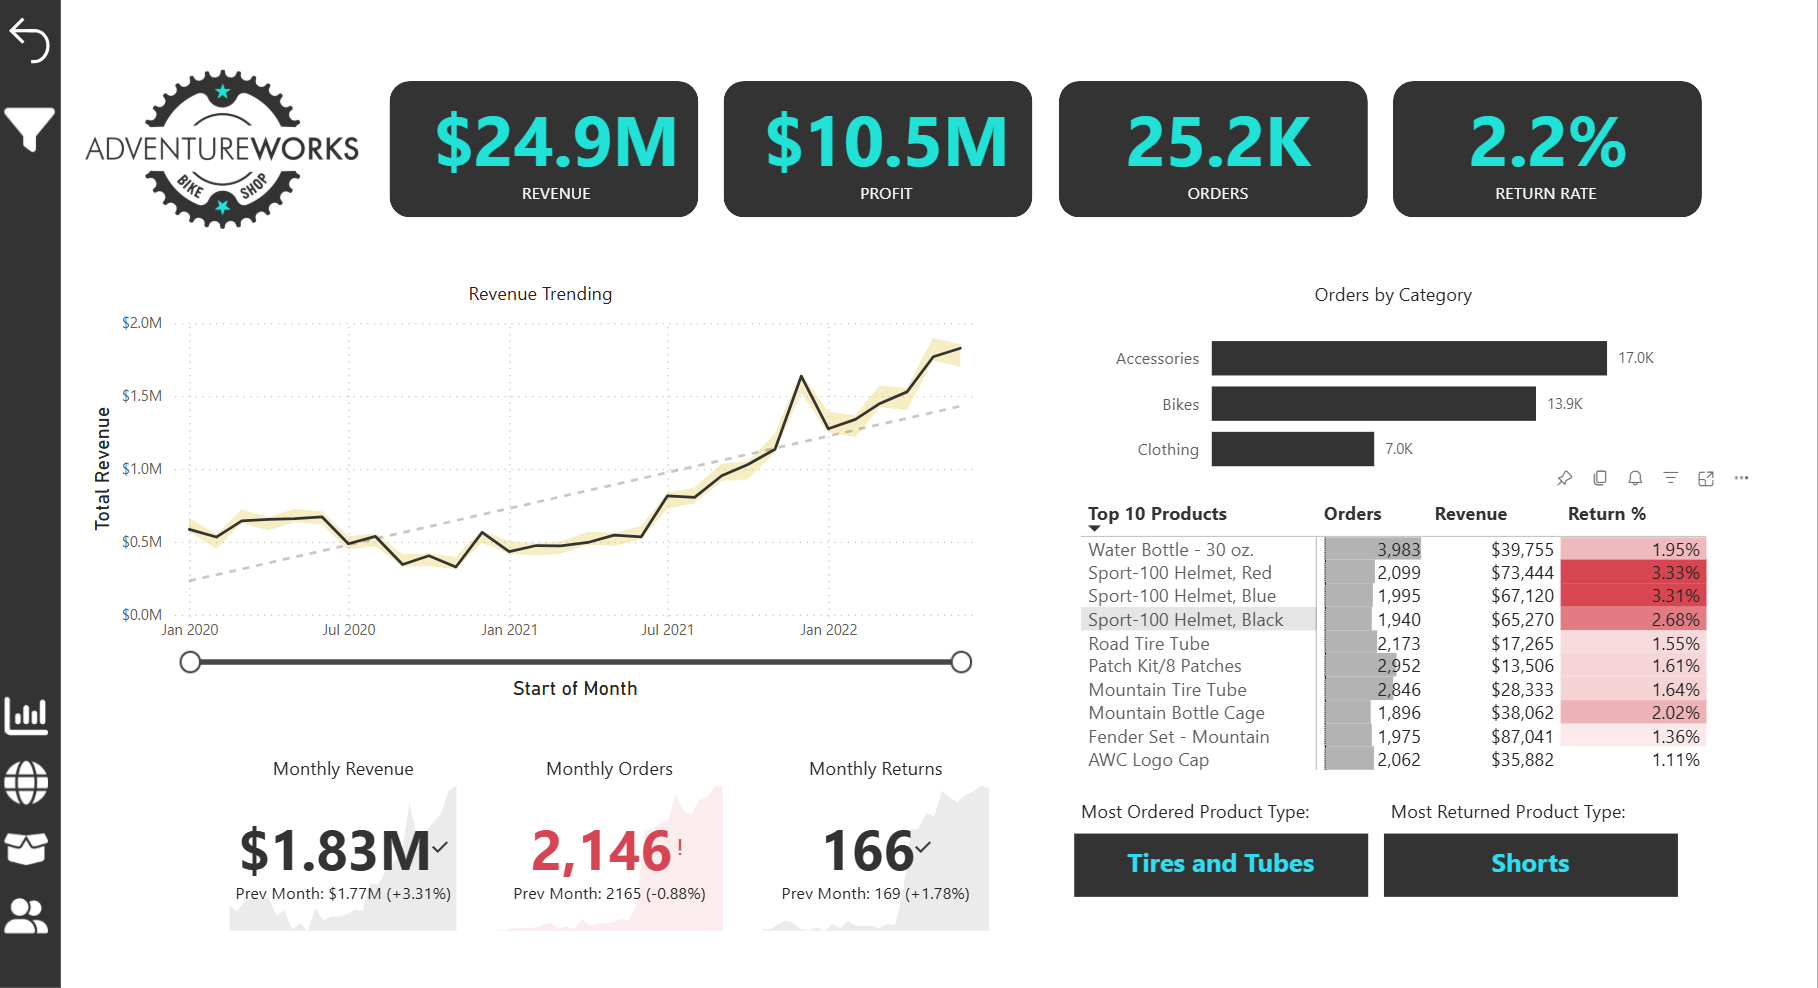

This screenshot's page, from the dashboard's own definition file:
{"tool":"powerbi","page":{"name":"Exec Dashboard","canvas":[1280,720],"ordinal":0},"visuals":[{"type":"card","fields":{"Values":["Measure Table.Return Rate"]},"box":[1007,33.6,243.7,150.4],"z":0,"group":"g2"},{"type":"image","title":"AW Logo","box":[41,43.5,243.7,131.8],"z":0},{"type":"group","id":"g1","title":"KPI Backgrounds","box":[285,59.6,955.7,99.6],"z":0,"group":"g3"},{"type":"shape","box":[285,59.6,225,99.5],"z":0,"group":"g1"},{"type":"actionButton","box":[0,502.2,62.2,39.8],"z":0,"group":"g4"},{"type":"shape","title":"Left Nav Background","box":[0,0,45,720],"z":1000},{"type":"group","id":"g2","title":"KPI Values","box":[284.7,33.6,966,150.4],"z":1000,"group":"g3"},{"type":"card","fields":{"Values":["Measure Table.Total Revenue"]},"box":[284.7,33.6,243.7,150.4],"z":1000,"group":"g2"},{"type":"shape","box":[528.5,59.8,225,99.5],"z":1000,"group":"g1"},{"type":"actionButton","box":[0,599.2,62.2,39.8],"z":1000,"group":"g4"},{"type":"group","id":"g3","title":"KPIs","box":[284.7,33.6,966,150.4],"z":2000},{"type":"card","fields":{"Values":["Measure Table.Total Orders"]},"box":[766.2,33.6,243.7,150.4],"z":2000,"group":"g2"},{"type":"shape","box":[772.1,59.8,225,99.5],"z":2000,"group":"g1"},{"type":"actionButton","box":[0,647.7,62.2,39.8],"z":2000,"group":"g4"},{"type":"card","fields":{"Values":["Measure Table.Total Profit"]},"box":[525.5,33.6,243.7,150.4],"z":3000,"group":"g2"},{"type":"shape","box":[1015.6,59.8,225,99.5],"z":3000,"group":"g1"},{"type":"lineChart","title":"Revenue Trending","fields":{"Category":["Calendar Lookup.Date Hierarchy.Start of Month"],"Y":["Measure Table.Total Revenue"]},"box":[62.2,205.1,663.9,309.6],"z":3000},{"type":"actionButton","box":[0,550.7,62.2,39.8],"z":3000,"group":"g4"},{"type":"kpi","title":"Monthly Revenue","fields":{"Goal":["Measure Table.Previous Month Revenue"],"Indicator":["Measure Table.Total Revenue"],"TrendLine":["Calendar Lookup.Start of Month"]},"box":[162.9,550.7,175.3,133],"z":4000},{"type":"kpi","title":"Monthly Orders","fields":{"Goal":["Measure Table.Previous Month Orders"],"Indicator":["Measure Table.Total Orders"],"TrendLine":["Calendar Lookup.Start of Month"]},"box":[357.1,550.5,175.3,133],"z":5000},{"type":"kpi","title":"Monthly Returns","fields":{"Goal":["Measure Table.Previous Month Returns"],"Indicator":["Measure Table.Total Returns"],"TrendLine":["Calendar Lookup.Start of Month"]},"box":[551.3,550.5,175.3,133],"z":6000},{"type":"clusteredBarChart","title":"Orders by Category ","fields":{"Category":["Product Categories Lookup.CategoryName"],"Y":["Measure Table.Total Orders"]},"box":[803.1,206.4,423.9,154.2],"z":7000},{"type":"pivotTable","fields":{"Rows":["Product Lookup.ProductName"],"Values":["Measure Table.Total Orders","Measure Table.Total Revenue","Measure Table.Return Rate"]},"box":[783.2,360.5,497.3,217.6],"z":8000},{"type":"card","fields":{"Values":["Min(Product Subcategories Lookup.SubcategoryName)"]},"box":[783.2,607.9,213.8,46],"z":9000},{"type":"textbox","box":[783.2,578.1,181.5,38.5],"z":10000},{"type":"card","fields":{"Values":["Min(Product Subcategories Lookup.SubcategoryName)"]},"box":[1008.8,607.2,213.8,46],"z":11000},{"type":"textbox","box":[1008.8,577.4,181.5,38.5],"z":12000},{"type":"actionButton","box":[0,0,44.8,59.7],"z":13000},{"type":"group","id":"g4","title":"Navigation Buttons","box":[0,502.2,62.2,185.2],"z":14000},{"type":"actionButton","box":[0,69.6,44.8,51],"z":15000}]}

Visuals, with their boxes on the page's 1280x720 design canvas (x1, y1, x2, y2). These are canvas units, not pixel positions in the 1818x988 screenshot, which may show the page scaled, cropped or inside an application window:
card - Measure Table.Return Rate: bbox=[1007, 34, 1251, 184]
"AW Logo" image: bbox=[41, 44, 285, 175]
"KPI Backgrounds" group: bbox=[285, 60, 1241, 159]
shape: bbox=[285, 60, 510, 159]
actionButton: bbox=[0, 502, 62, 542]
"Left Nav Background" shape: bbox=[0, 0, 45, 720]
"KPI Values" group: bbox=[285, 34, 1251, 184]
card - Measure Table.Total Revenue: bbox=[285, 34, 528, 184]
shape: bbox=[528, 60, 754, 159]
actionButton: bbox=[0, 599, 62, 639]
"KPIs" group: bbox=[285, 34, 1251, 184]
card - Measure Table.Total Orders: bbox=[766, 34, 1010, 184]
shape: bbox=[772, 60, 997, 159]
actionButton: bbox=[0, 648, 62, 688]
card - Measure Table.Total Profit: bbox=[526, 34, 769, 184]
shape: bbox=[1016, 60, 1241, 159]
"Revenue Trending" lineChart: bbox=[62, 205, 726, 515]
actionButton: bbox=[0, 551, 62, 590]
"Monthly Revenue" kpi: bbox=[163, 551, 338, 684]
"Monthly Orders" kpi: bbox=[357, 550, 532, 684]
"Monthly Returns" kpi: bbox=[551, 550, 727, 684]
"Orders by Category " clusteredBarChart: bbox=[803, 206, 1227, 361]
pivotTable - Product Lookup.ProductName x Measure Table.Total Orders: bbox=[783, 360, 1280, 578]
card - Min(Product Subcategories Lookup.SubcategoryName): bbox=[783, 608, 997, 654]
textbox: bbox=[783, 578, 965, 617]
card - Min(Product Subcategories Lookup.SubcategoryName): bbox=[1009, 607, 1223, 653]
textbox: bbox=[1009, 577, 1190, 616]
actionButton: bbox=[0, 0, 45, 60]
"Navigation Buttons" group: bbox=[0, 502, 62, 687]
actionButton: bbox=[0, 70, 45, 121]
